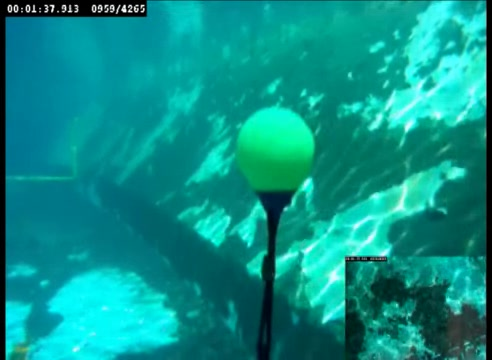buoy_green: (232, 108, 315, 210)
